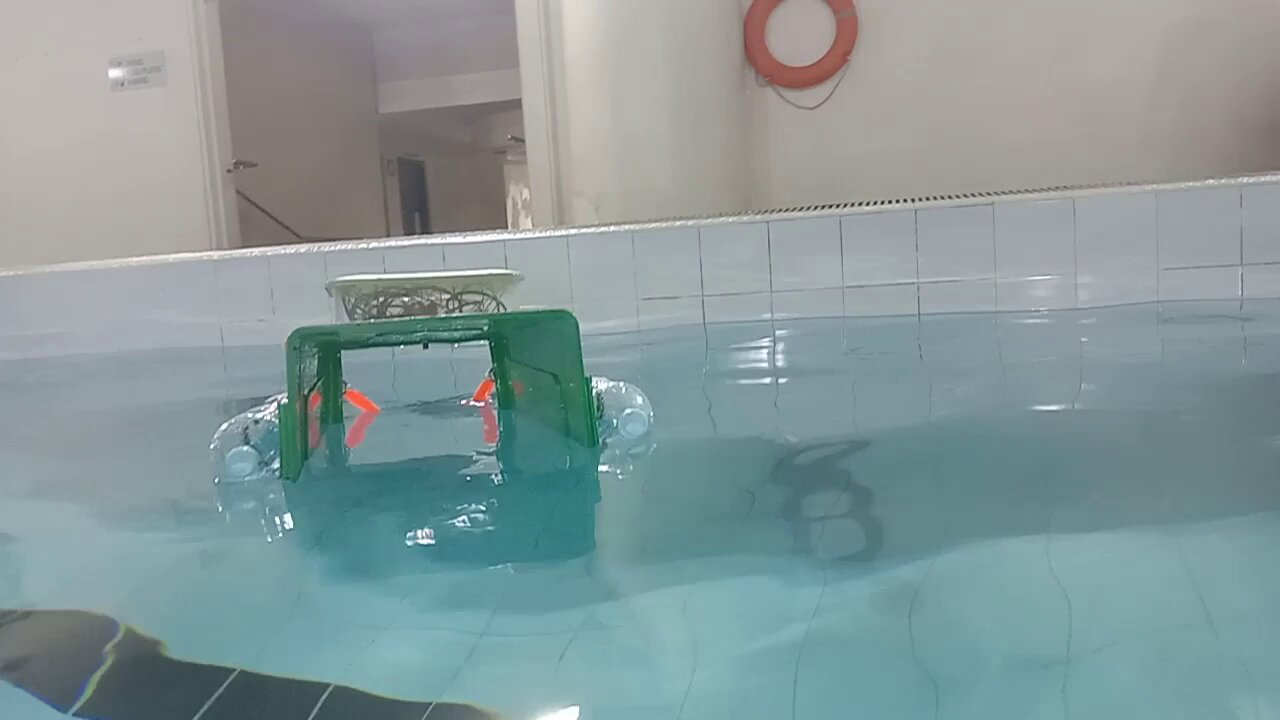drone: (194, 265, 662, 504)
